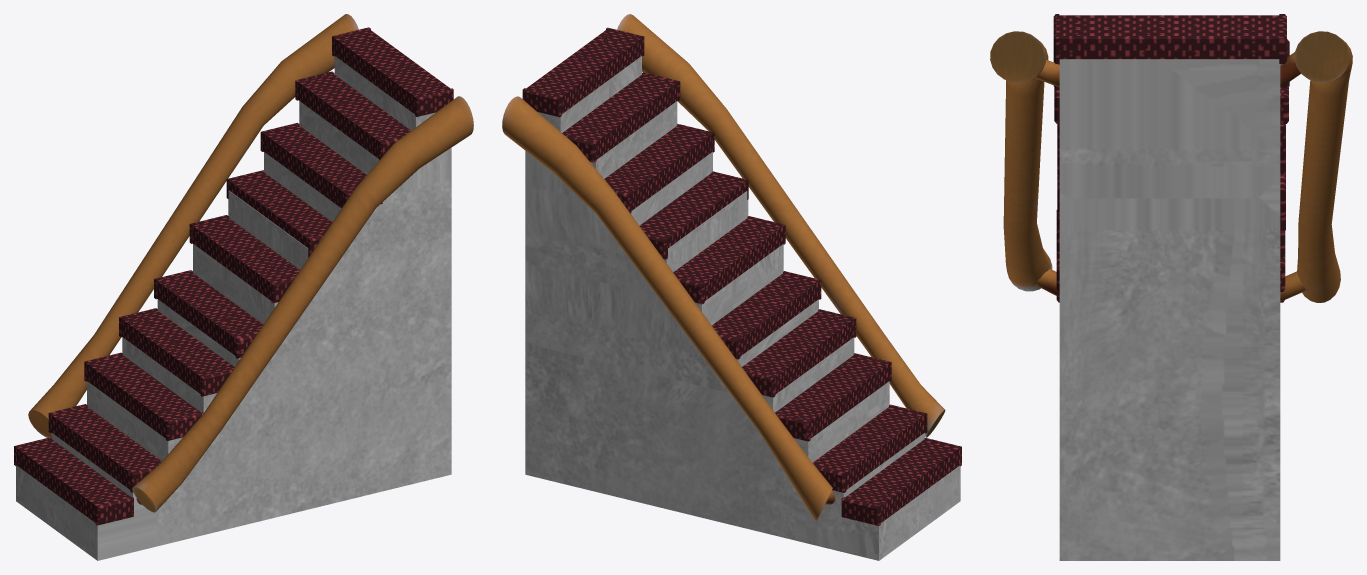
File: StairswithTexture2.fbx
The picture shows the model from 3 angles, left to right: view 1: azimuth 30°, elevation 25°; view 2: azimuth 150°, elevation 25°; view 3: azimuth 270°, elevation 25°; orthographic projection. The views are drawn at different scales.
Parts seen in each view (by area): view 1: polySurface43; view 2: polySurface43; view 3: polySurface43.
Boxes of the visible parts, x1,y1,x2,y2 form: polySurface43: (14, 14, 473, 560); polySurface43: (502, 14, 961, 560); polySurface43: (990, 14, 1352, 560).
Bounding box in the file's own units: 15.43 × 16.14 × 10.07.
